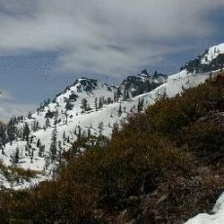neutral: (1, 42, 224, 211)
